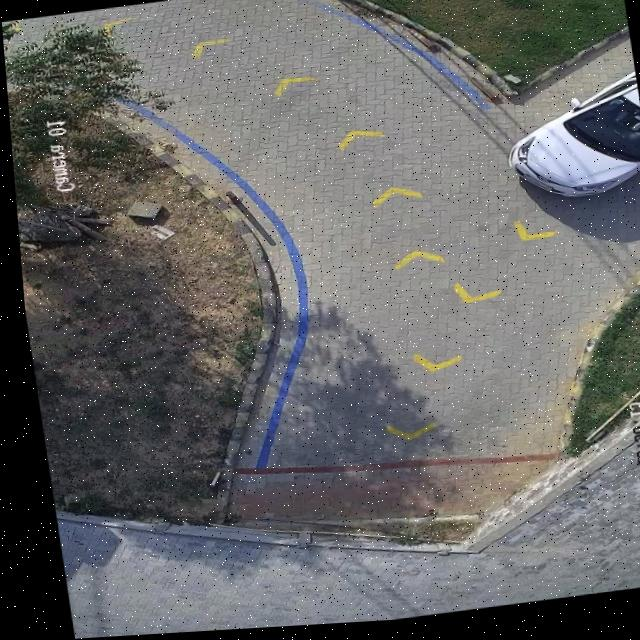car: (503, 84, 640, 209)
